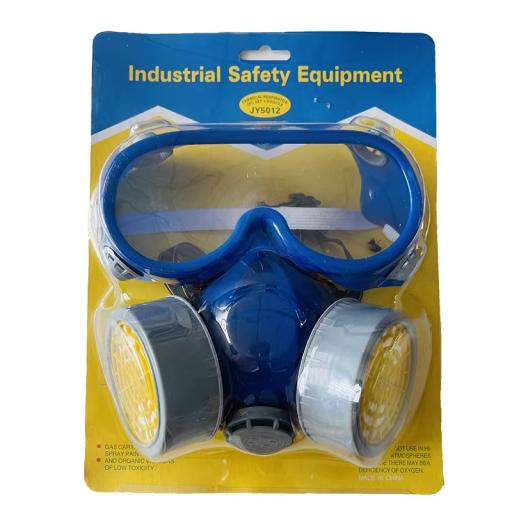mask: (98, 278, 434, 466)
